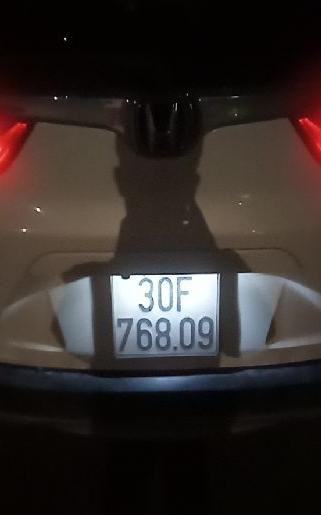Plate-iWeP: (115, 273, 218, 353)
